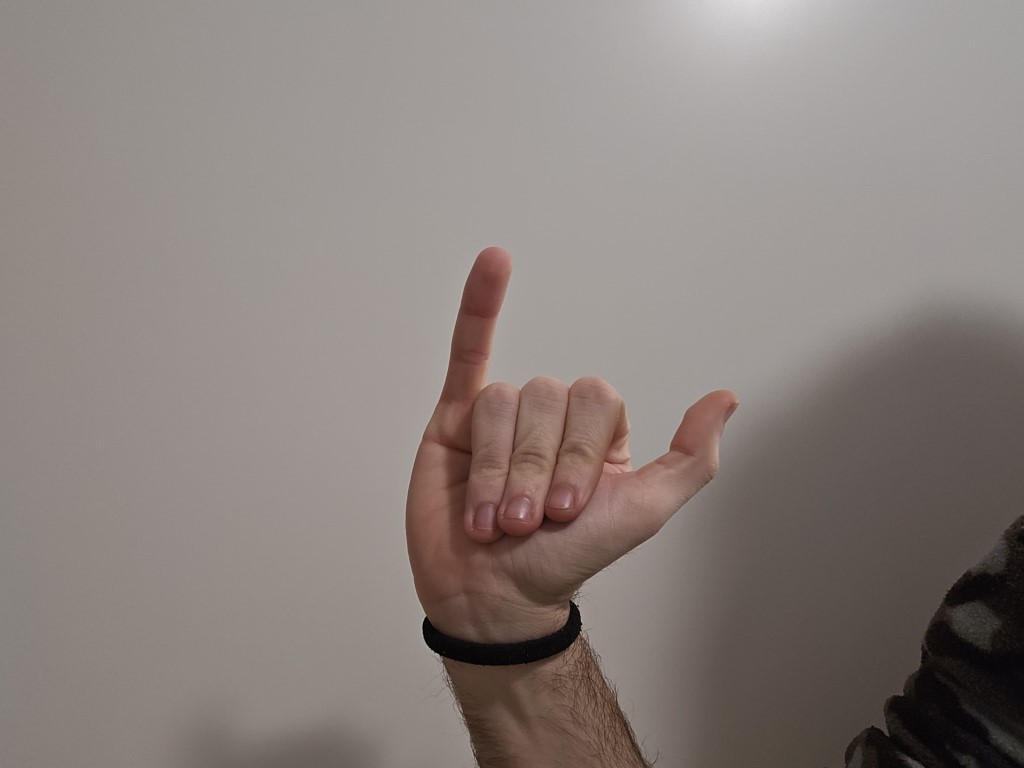y: (354, 215, 776, 623)
